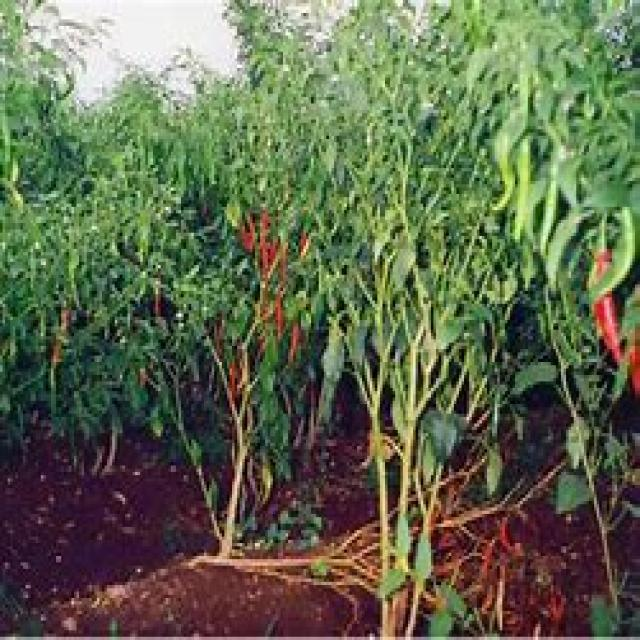Mosaic_virus: (0, 8, 640, 463)
